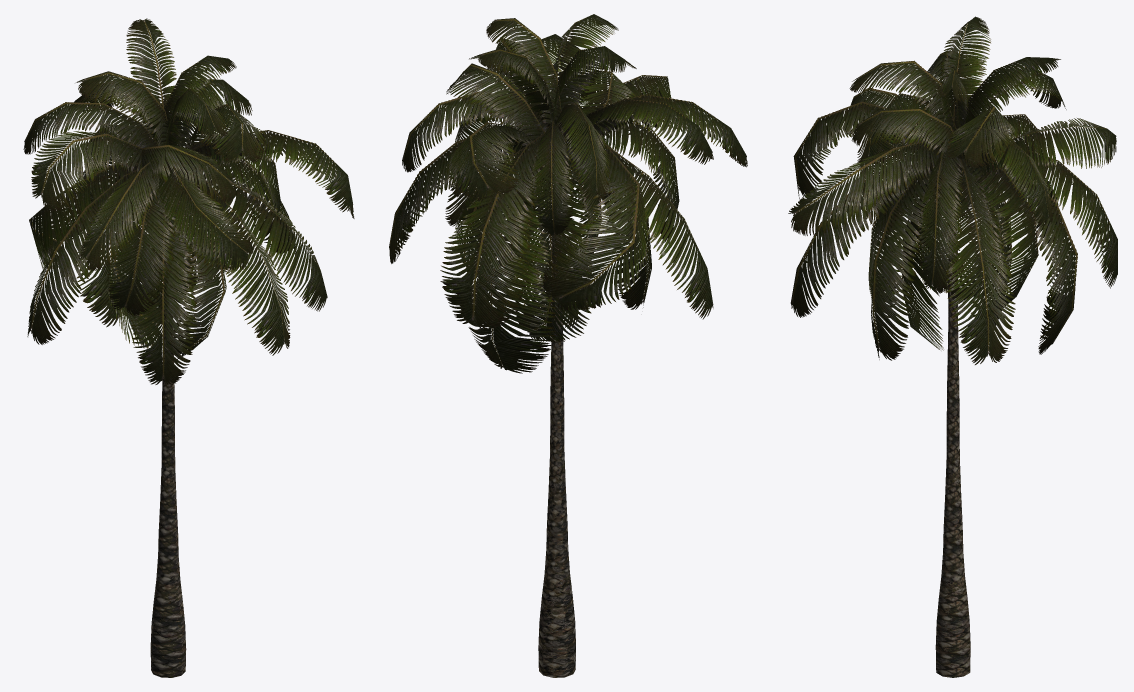
File: palm-straight.glb
3 views of the same model, side by side, from view 1: azimuth 30°, elevation 25°; view 2: azimuth 150°, elevation 25°; view 3: azimuth 270°, elevation 25° (orthographic). The views are drawn at different scales.
Visible parts, largest first — view 1: palm_straight; view 2: palm_straight; view 3: palm_straight.
Part boxes in pixels (box(x1,y1,x2,y2)): palm_straight: box(23, 18, 354, 677); palm_straight: box(389, 14, 747, 677); palm_straight: box(788, 16, 1117, 677).
Size of the model in its own units: 3.46 by 6.99 by 3.42.
1 material, 1 textured.
